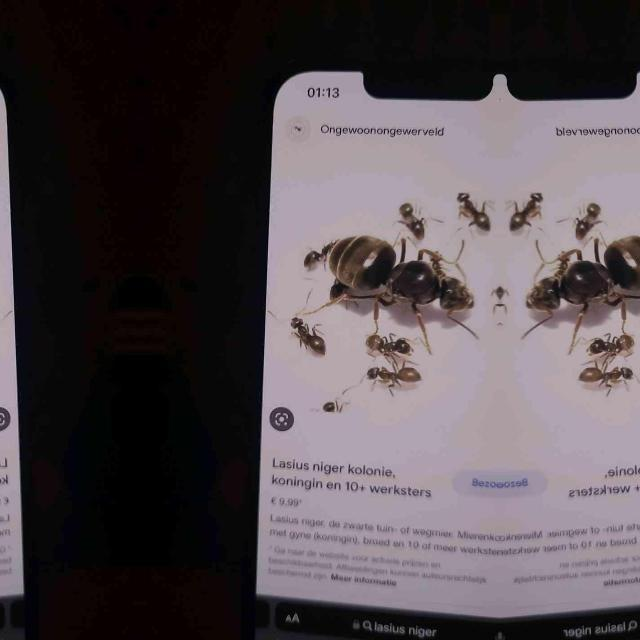Lasius: (306, 222, 494, 334), (502, 222, 640, 334), (356, 350, 429, 394), (568, 350, 640, 394), (280, 303, 324, 363), (574, 330, 636, 362), (362, 330, 423, 362), (392, 193, 428, 247), (570, 193, 606, 247), (313, 387, 353, 418), (292, 237, 330, 265), (324, 274, 352, 306)
